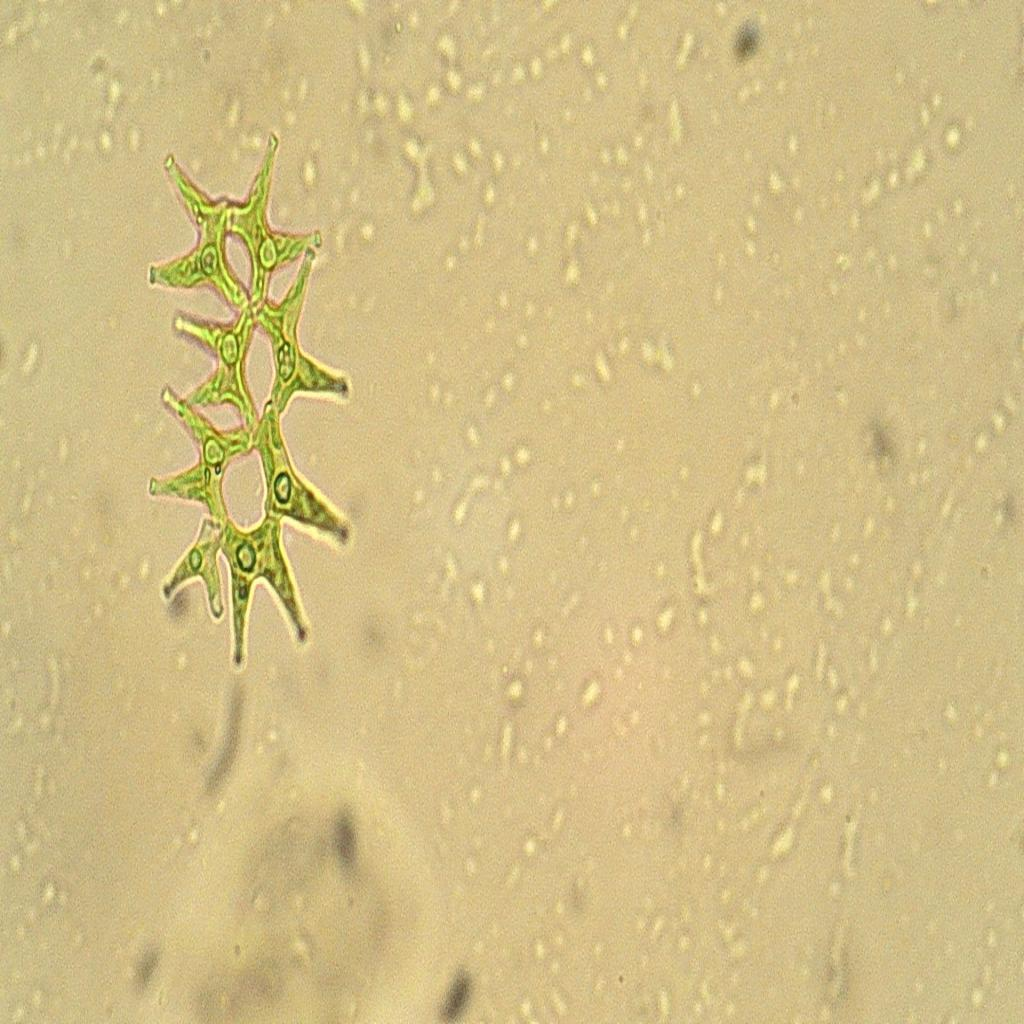Pediastrum_CFI: (128, 134, 362, 703)
